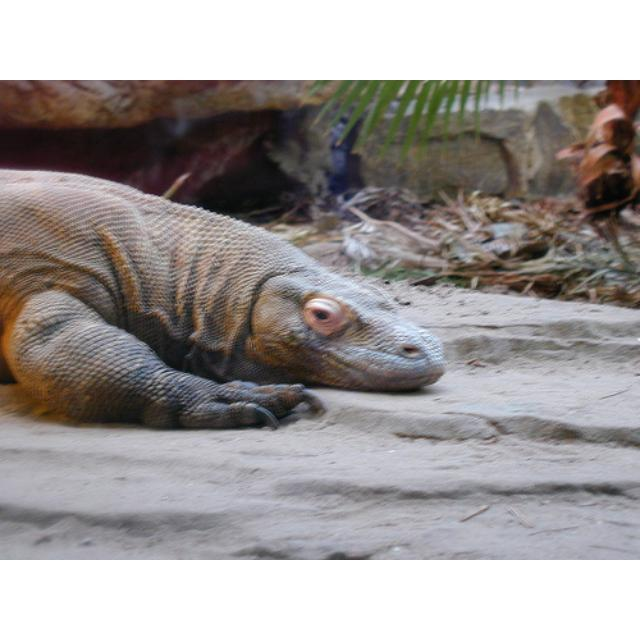KomodoDragon: (1, 166, 446, 432)
